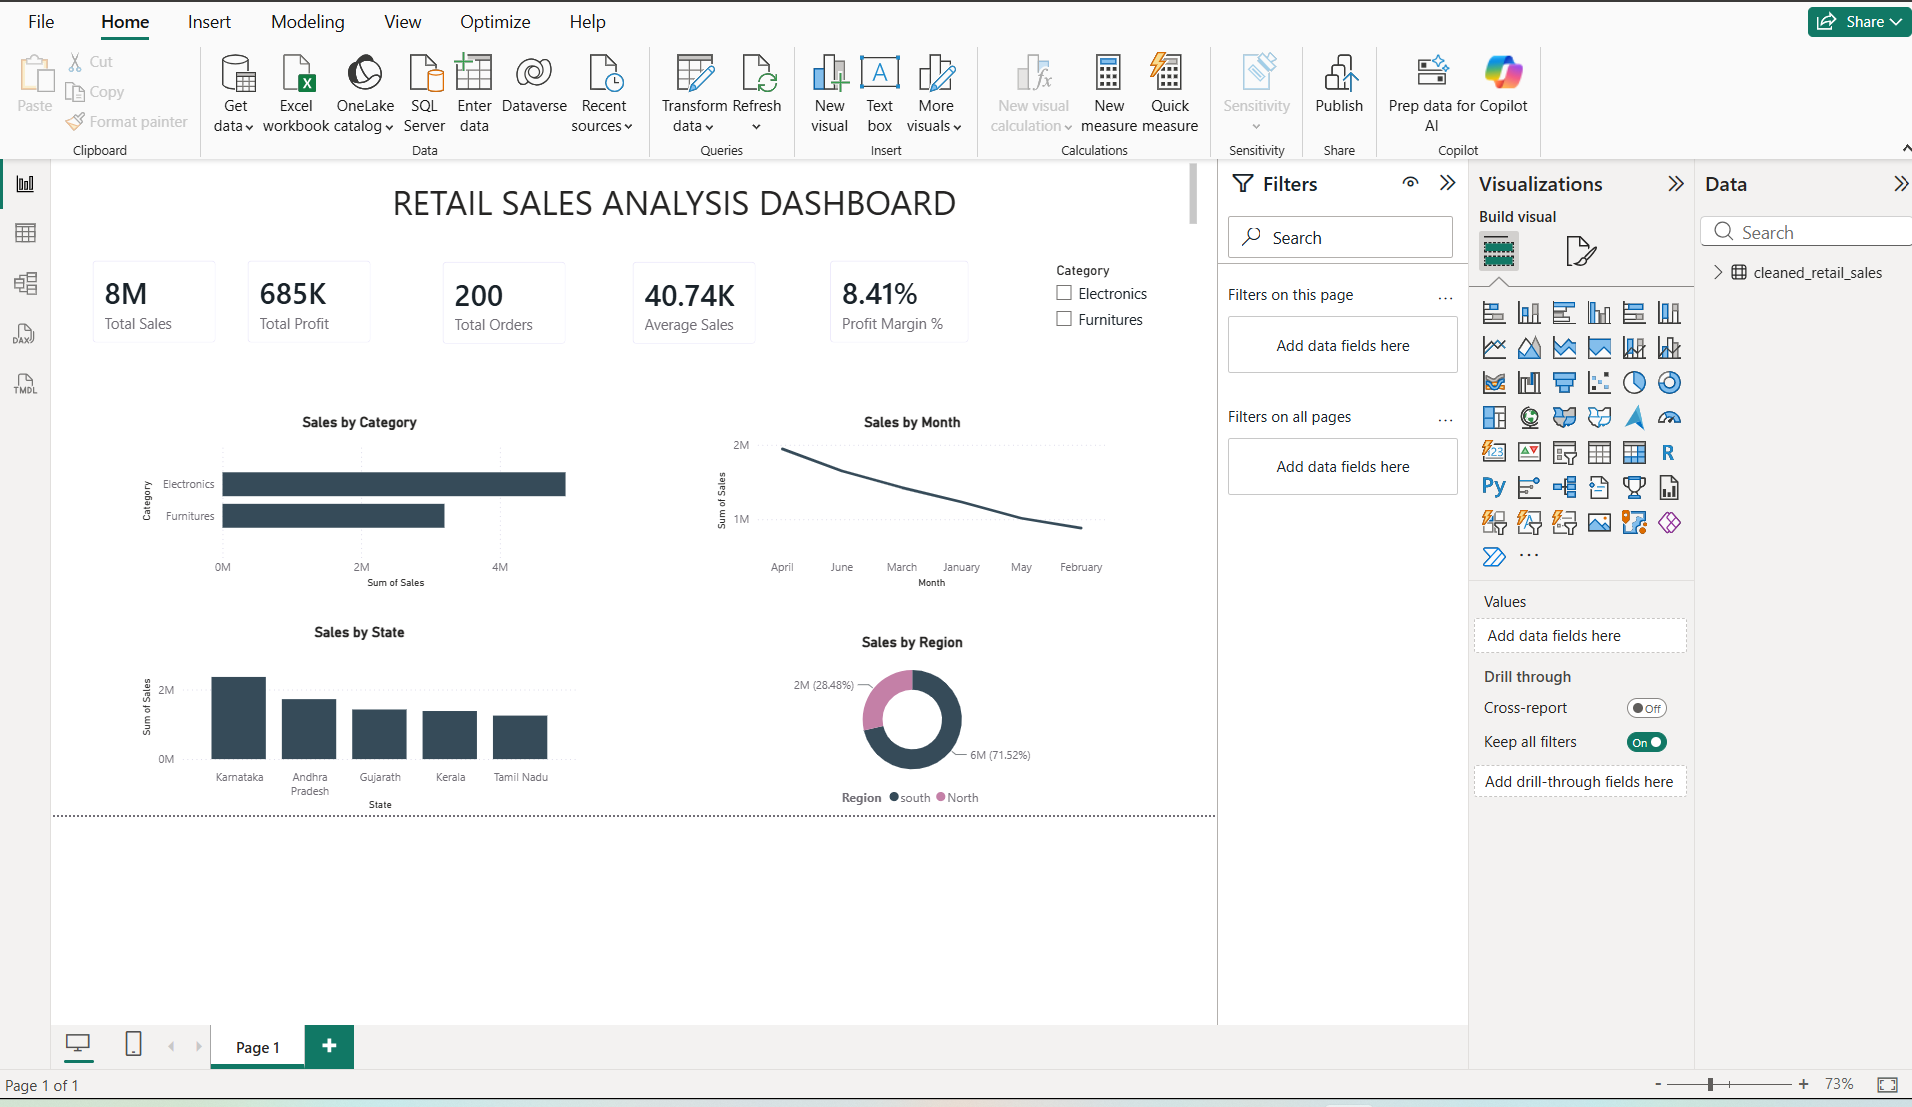

This screenshot's page, from the dashboard's own definition file:
{"tool":"powerbi","page":{"name":"Page 1","canvas":[1280,720],"ordinal":0},"visuals":[{"type":"clusteredBarChart","title":" Sales by Category","fields":{"Category":["cleaned_retail_sales.Category"],"Y":["Sum(cleaned_retail_sales.Sales)"]},"box":[94.2,280.2,488.4,196.5],"z":3000},{"type":"donutChart","title":"Sales by Region","fields":{"Category":["cleaned_retail_sales.Region"],"Y":["Sum(cleaned_retail_sales.Sales)"]},"box":[725.6,522.1,439.5,197.7],"z":4000},{"type":"lineChart","title":"Sales by Month","fields":{"Category":["cleaned_retail_sales.Month"],"Y":["Sum(cleaned_retail_sales.Sales)"]},"box":[725.6,280.2,439.5,196.5],"z":5000},{"type":"clusteredColumnChart","title":"Sales by State","fields":{"Category":["cleaned_retail_sales.State"],"Y":["Sum(cleaned_retail_sales.Sales)"]},"box":[94.2,510.5,488.4,209.3],"z":6000},{"type":"slicer","fields":{"Values":["cleaned_retail_sales.Category"]},"box":[1090.7,108.1,150,122.1],"z":7000},{"type":"textbox","box":[114,0,1148.8,76.7],"z":10000},{"type":"cardVisual","fields":{"Data":["cleaned_retail_sales.Total Sales"]},"box":[29.1,95.3,169.8,124.4],"z":10001},{"type":"cardVisual","fields":{"Data":["cleaned_retail_sales.Total Orders"]},"box":[412.8,96.5,169.8,124.4],"z":10002},{"type":"cardVisual","fields":{"Data":["cleaned_retail_sales.Total Profit"]},"box":[198.8,95.3,169.8,124.4],"z":10003},{"type":"cardVisual","fields":{"Data":["cleaned_retail_sales.Average Sales"]},"box":[622.1,96.5,169.8,124.4],"z":10004},{"type":"cardVisual","fields":{"Data":["cleaned_retail_sales.Profit Margin %"]},"box":[838.4,95.3,186,124.4],"z":10005}]}

Visuals, with their boxes on the page's 1280x720 design canvas (x1, y1, x2, y2). These are canvas units, not pixel positions in the 1912x1107 screenshot, which may show the page scaled, cropped or inside an application window:
" Sales by Category" clusteredBarChart: [x1=94, y1=280, x2=583, y2=477]
"Sales by Region" donutChart: [x1=726, y1=522, x2=1165, y2=720]
"Sales by Month" lineChart: [x1=726, y1=280, x2=1165, y2=477]
"Sales by State" clusteredColumnChart: [x1=94, y1=510, x2=583, y2=720]
slicer - cleaned_retail_sales.Category: [x1=1091, y1=108, x2=1241, y2=230]
textbox: [x1=114, y1=0, x2=1263, y2=77]
cardVisual - cleaned_retail_sales.Total Sales: [x1=29, y1=95, x2=199, y2=220]
cardVisual - cleaned_retail_sales.Total Orders: [x1=413, y1=96, x2=583, y2=221]
cardVisual - cleaned_retail_sales.Total Profit: [x1=199, y1=95, x2=369, y2=220]
cardVisual - cleaned_retail_sales.Average Sales: [x1=622, y1=96, x2=792, y2=221]
cardVisual - cleaned_retail_sales.Profit Margin %: [x1=838, y1=95, x2=1024, y2=220]
